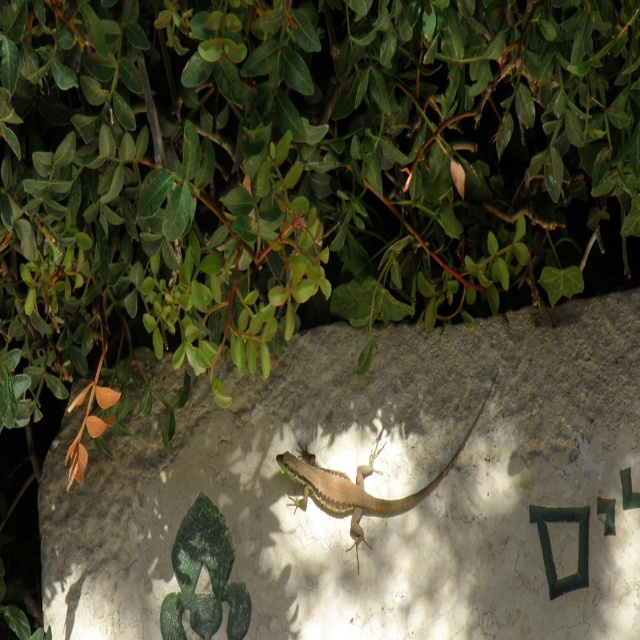Lizard: (277, 420, 490, 575)
